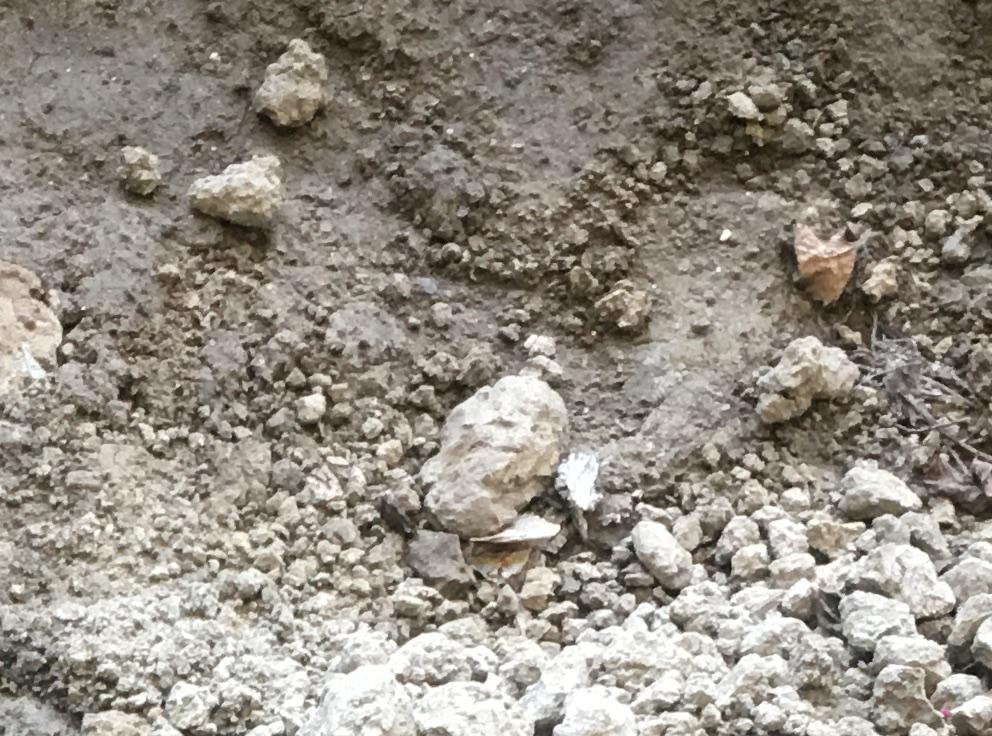block: (418, 373, 578, 535)
